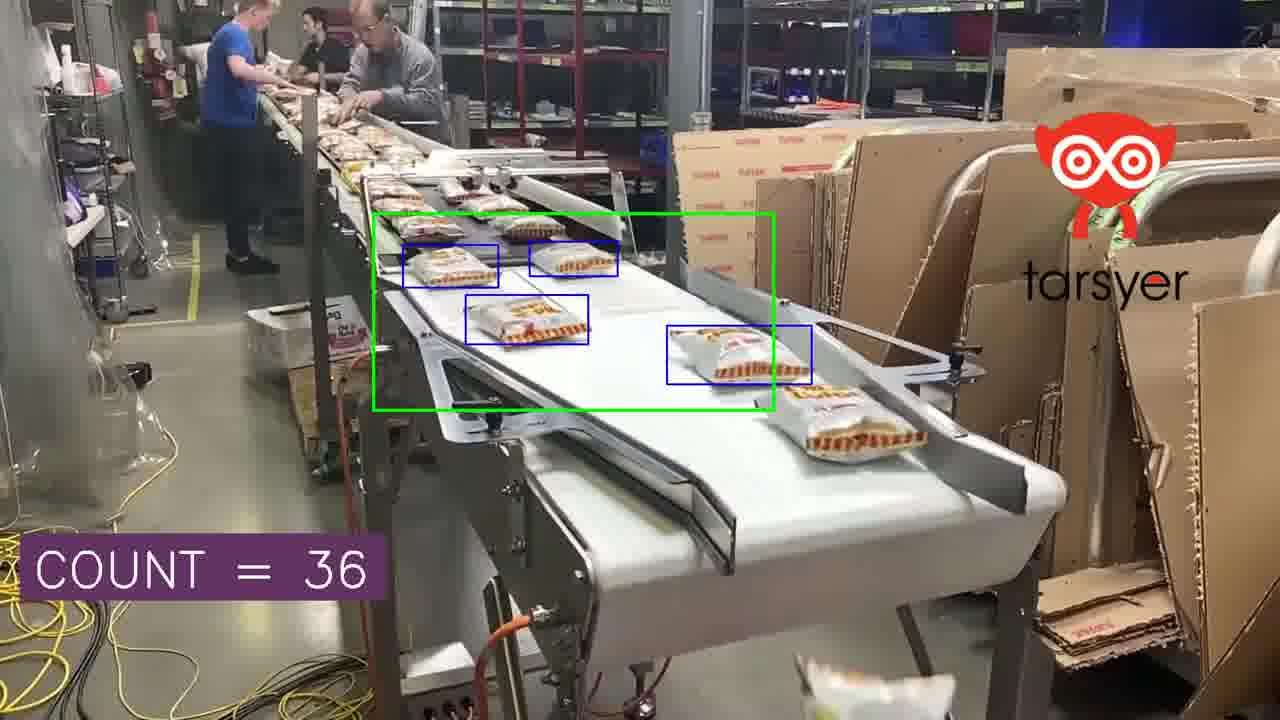Snack: (768, 386, 925, 461), (800, 660, 955, 719), (669, 328, 772, 383), (468, 297, 586, 343), (408, 247, 496, 287), (531, 243, 616, 275), (384, 214, 464, 241), (387, 215, 465, 241), (491, 215, 564, 240), (318, 135, 375, 162), (439, 178, 494, 204), (365, 177, 421, 202), (462, 195, 528, 212), (355, 126, 402, 149), (375, 144, 424, 164), (373, 197, 431, 211), (337, 119, 364, 133)
